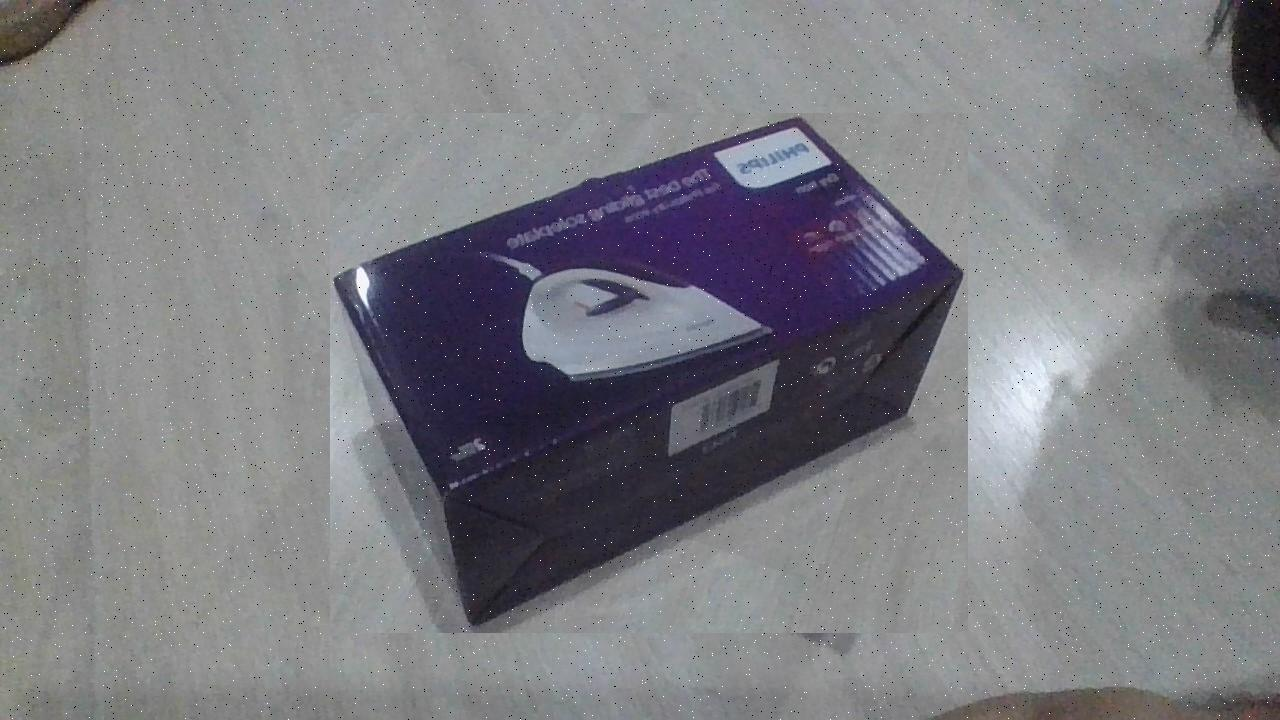IRON: (330, 113, 968, 633)
